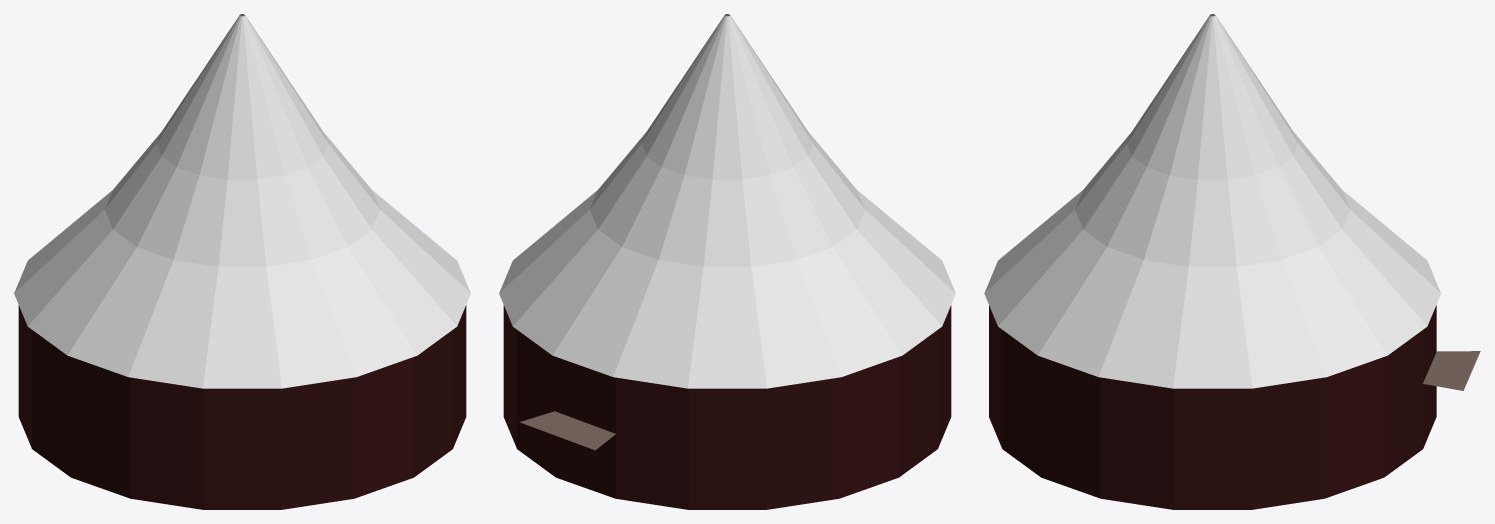
The model's file is Circus.fbx.
3 views of the same model, side by side, from view 1: azimuth 30°, elevation 25°; view 2: azimuth 150°, elevation 25°; view 3: azimuth 270°, elevation 25° (orthographic).
Visible parts, largest first — view 1: Tent, Podium; view 2: Tent, Podium, Seats; view 3: Tent, Podium, Seats.
Part boxes in pixels (x1,y1,x2,y2): Tent: (14,14,470,388); Podium: (18,305,466,509); Tent: (499,14,955,388); Podium: (503,305,951,509); Seats: (520,411,615,450); Tent: (984,14,1440,388); Podium: (989,305,1436,509); Seats: (1423,351,1480,390).
Bounding box in the file's own units: 1859 × 1831 × 2051.
